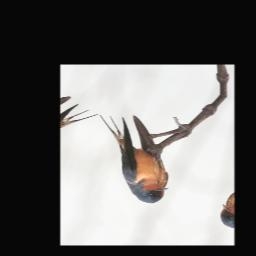Swallow: (74, 107, 191, 208)
